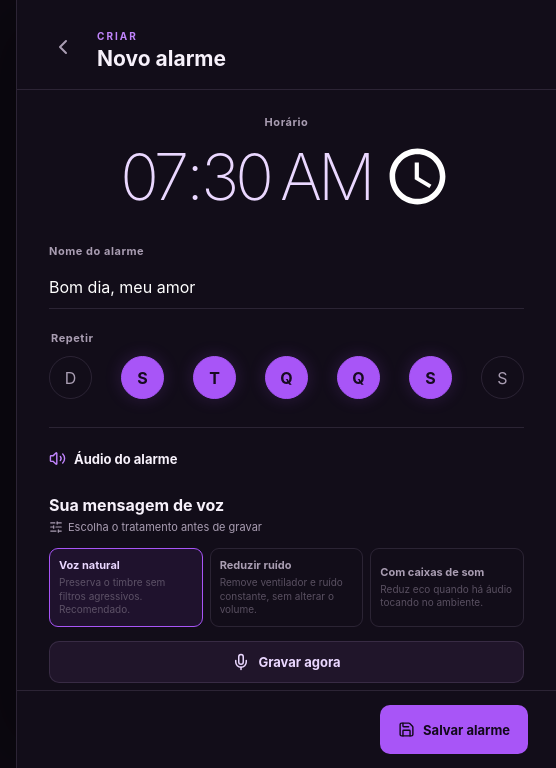
Test: AlarmEditor › valida todos os campos obrigatórios de um novo alarme
The width and height of the screenshot is (556, 768).
Clear the field with placeholder "Ex.: Acordar com amor". click: (286, 288)
box: top-left (49, 266), bottom-right (524, 309)
Click the 1st button "S". click: click(142, 378)
box: top-left (121, 356), bottom-right (164, 399)
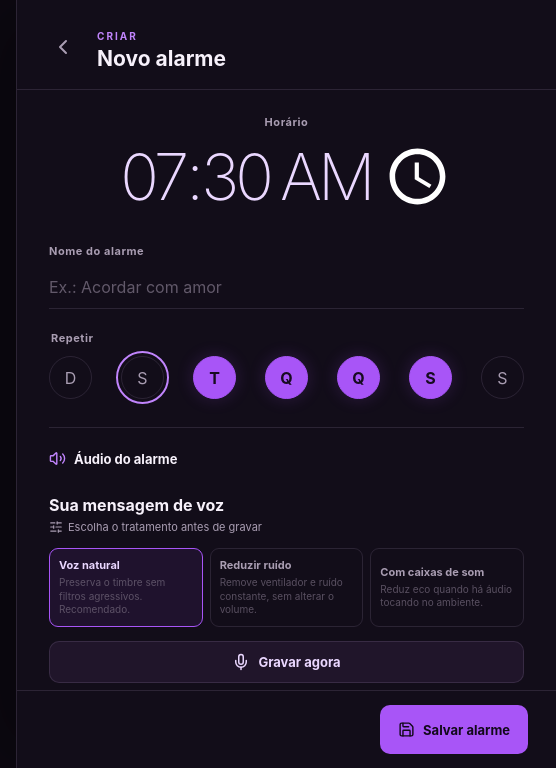
Click the button "T". click: click(214, 378)
box: top-left (193, 356), bottom-right (236, 399)
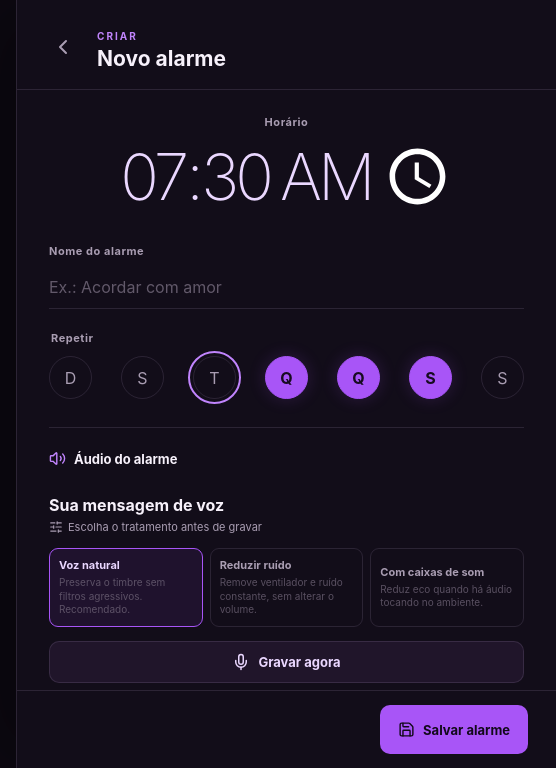
Click the 1st button "Q". click: click(286, 378)
box: top-left (265, 356), bottom-right (308, 399)
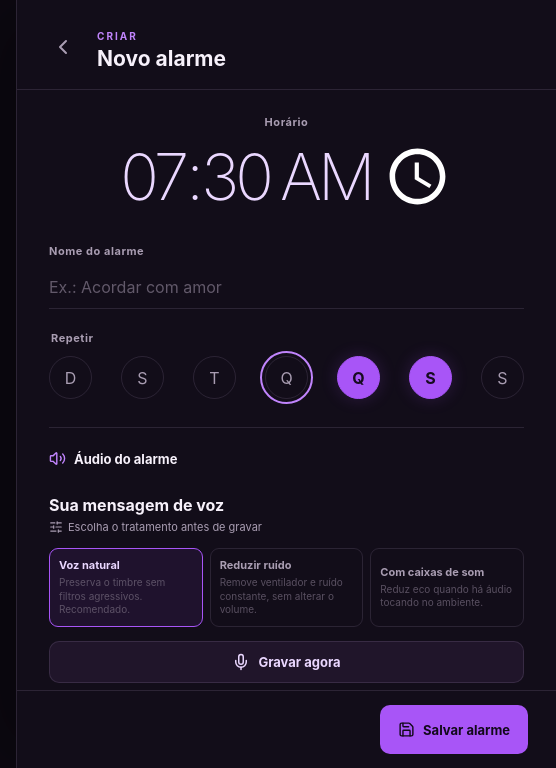
Click the 2nd button "Q". click: click(358, 378)
box: top-left (337, 356), bottom-right (380, 399)
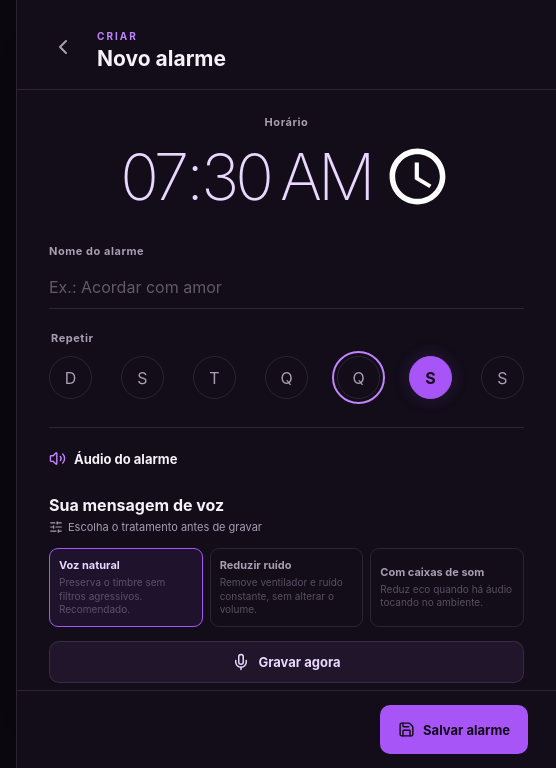
Click the 2nd button "S". click: click(430, 378)
box: top-left (409, 356), bottom-right (452, 399)
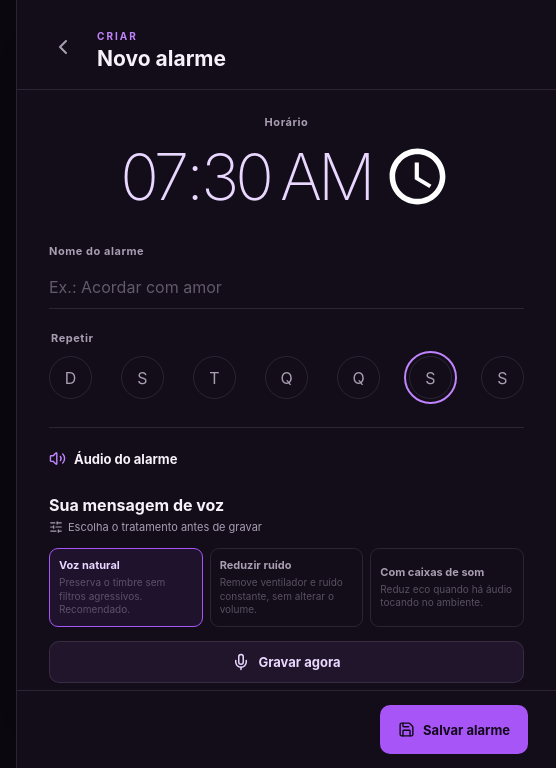
Click the button "Salvar alarme". click: click(454, 730)
box: top-left (380, 705), bottom-right (528, 754)
(page scrolled)
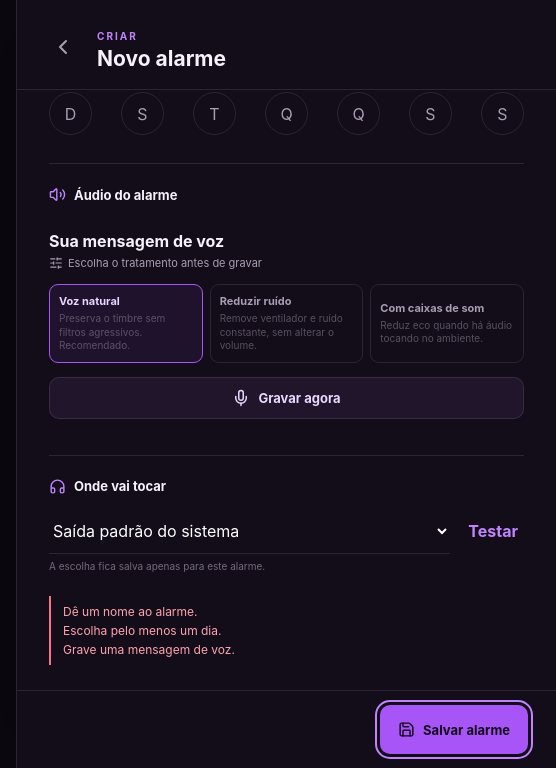
expect the message shows "Dê um nome ao alarme.": met, box top-left (63, 604), bottom-right (198, 618)
expect the message shows "Escolha pelo menos um dia.": met, box top-left (63, 622), bottom-right (222, 638)
expect the message shows "Grave uma mensagem de voz.": met, box top-left (63, 642), bottom-right (235, 656)
